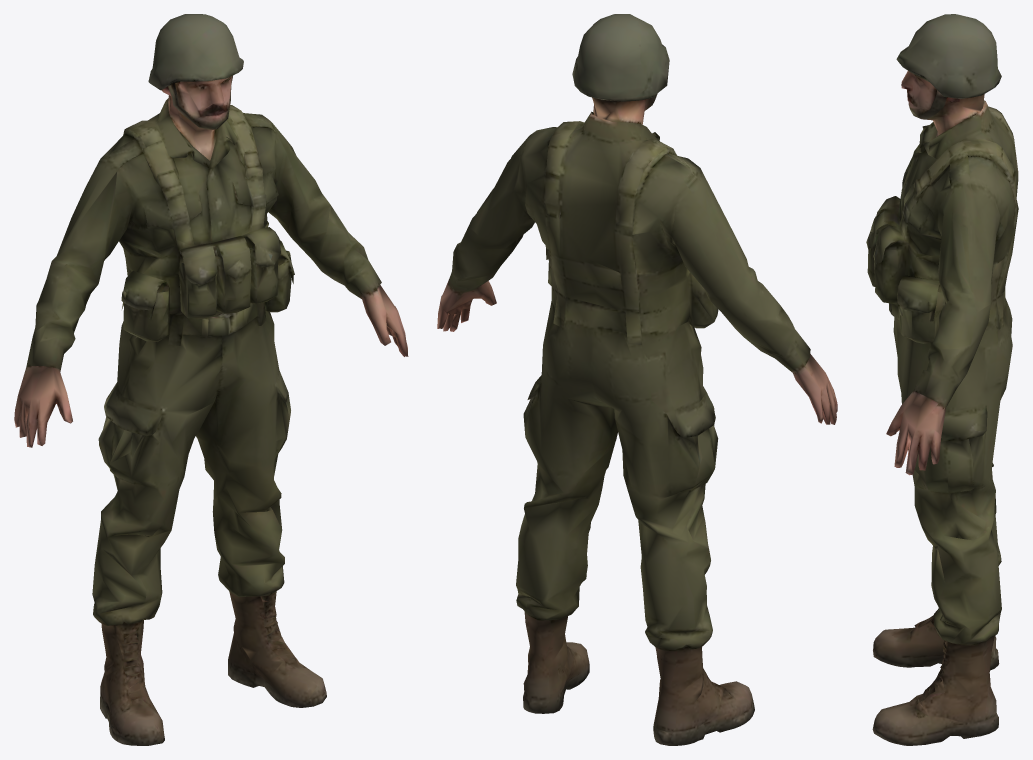
The model's file is soldier_iq_1.glb.
3 views of the same model, side by side, from view 1: azimuth 30°, elevation 25°; view 2: azimuth 150°, elevation 25°; view 3: azimuth 270°, elevation 25° (orthographic). The views are drawn at different scales.
Visible parts, largest first — view 1: geometry_0; view 2: geometry_0; view 3: geometry_0.
Part boxes in pixels (x1=…): geometry_0: x1=14, y1=14, x2=408, y2=745; geometry_0: x1=437, y1=14, x2=837, y2=745; geometry_0: x1=866, y1=14, x2=1018, y2=745.
Bounding box in the file's own units: 0.6671 × 1.15 × 0.2329.
Materials: 1 (1 with a texture image).
